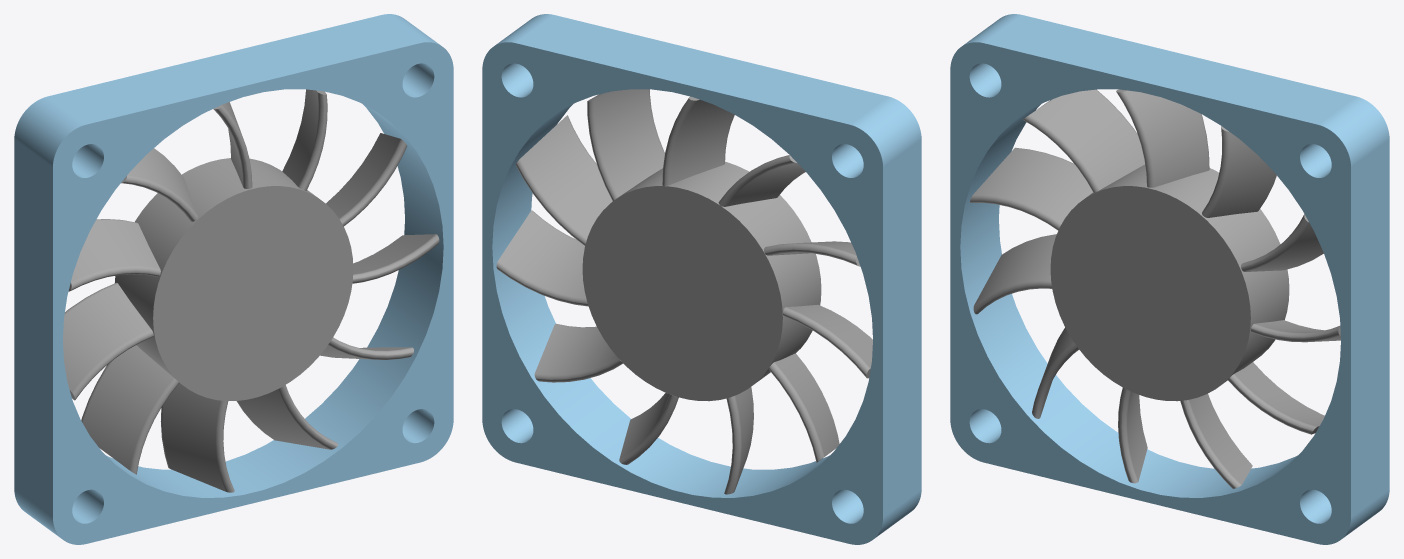
Rendered from fan.obj.
3 renders of one model, left to right at view 1: azimuth 30°, elevation 25°; view 2: azimuth 150°, elevation 25°; view 3: azimuth 330°, elevation 25°, orthographic.
Visible parts, largest first — view 1: Frame, Blades; view 2: Frame, Blades; view 3: Frame, Blades.
Boxes of the visible parts, x1,y1,x2,y2 form: Frame: (14,14,453,544); Blades: (63,89,439,492); Frame: (482,14,921,544); Blades: (496,89,872,494); Frame: (950,14,1389,544); Blades: (970,89,1340,488).
Bounding box in the file's own units: 0.06 × 0.06 × 0.01.
